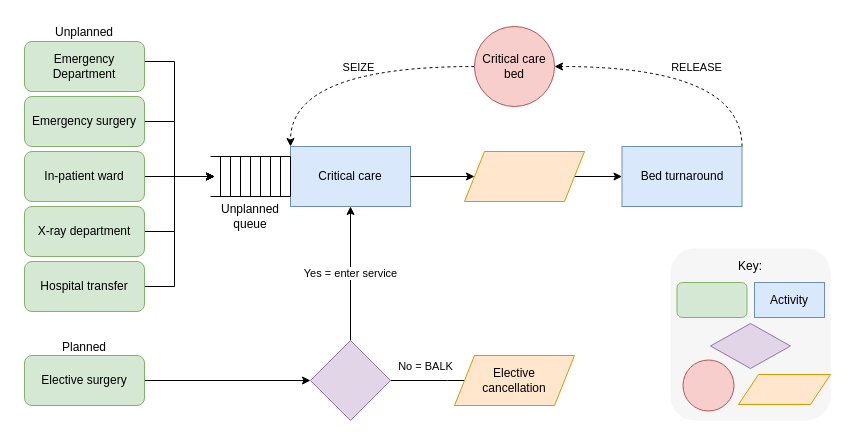
The diagram is 855 pixels wide and 444 high, and some of its shapes have lost their labels. Here are the shapes that lost their labels. From the top down, the centre of each, then its label:
(x=524, y=176): Patient departure
(x=711, y=300): Arrival source
(x=750, y=345): Routing decision
(x=350, y=380): Space?
(x=708, y=385): Resource
(x=784, y=389): Departure point
